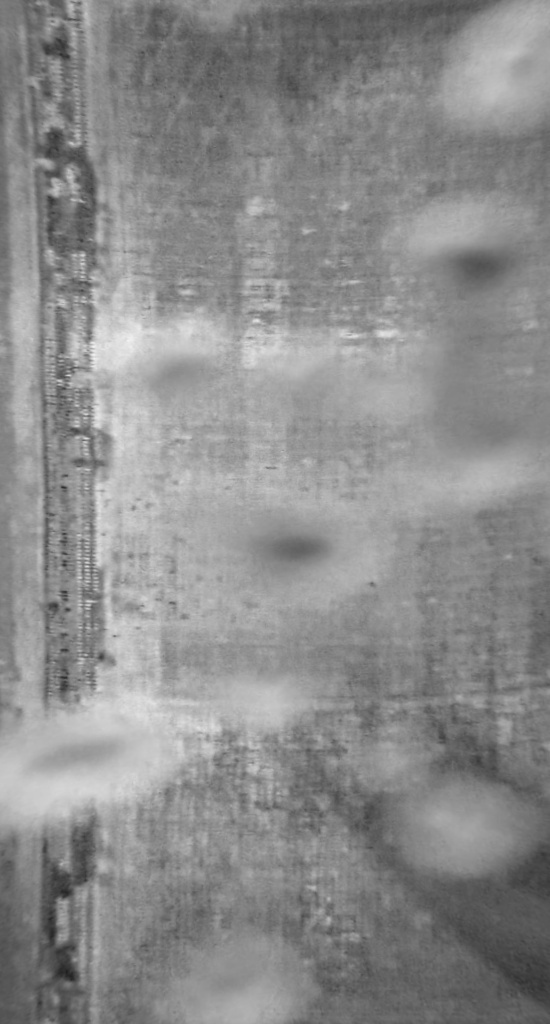splice: (16, 1, 119, 1023)
